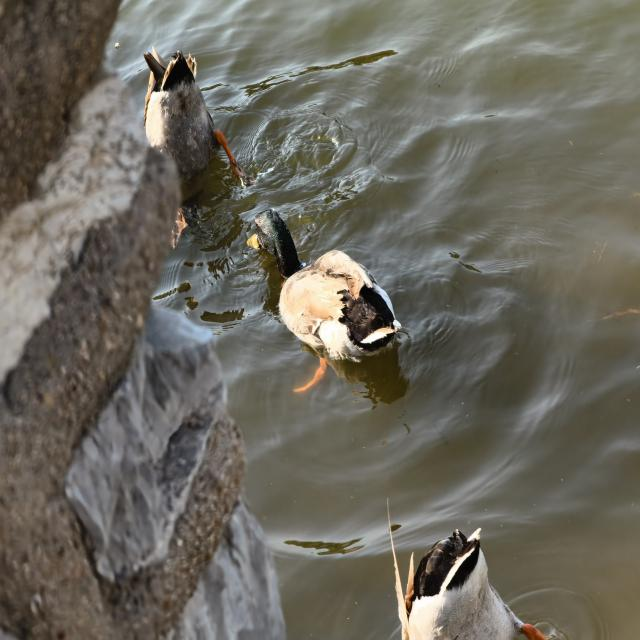duck: (244, 204, 406, 396), (141, 42, 258, 245), (382, 506, 546, 640)
